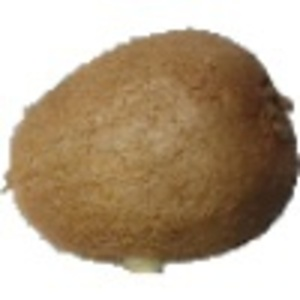kiwi: (1, 28, 300, 278)
